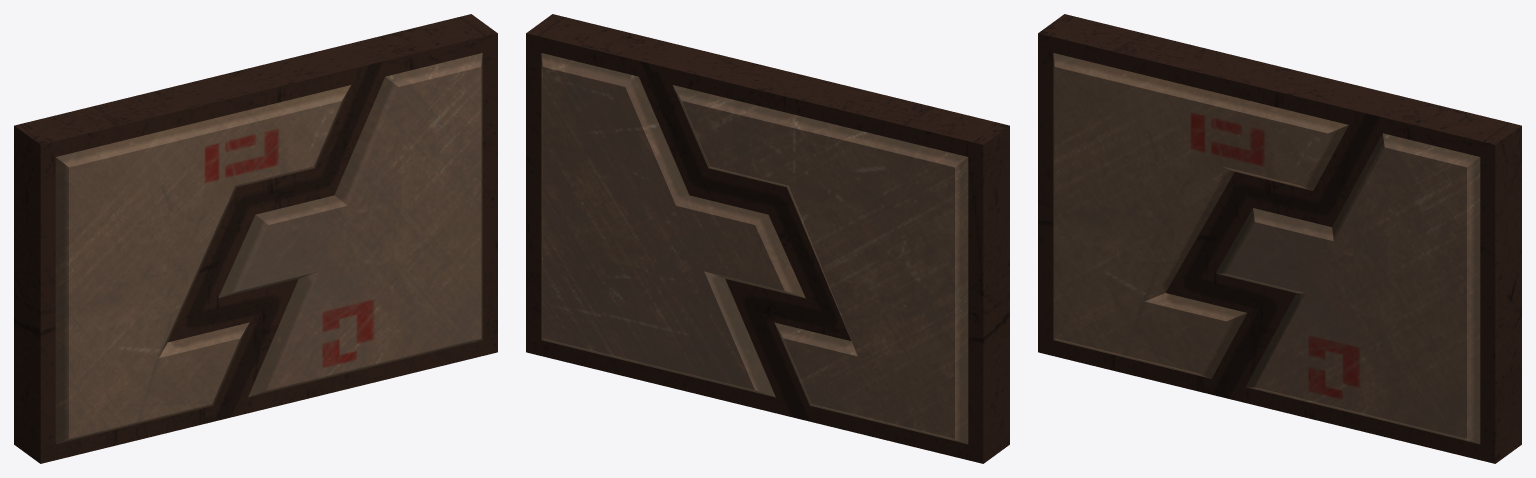
The model's file is doors.fbx.
The picture shows the model from 3 angles, left to right: view 1: azimuth 30°, elevation 25°; view 2: azimuth 150°, elevation 25°; view 3: azimuth 330°, elevation 25°; orthographic projection.
Parts seen in each view (by area): view 1: дверь 1, дверь 2; view 2: дверь 1, дверь 2; view 3: дверь 2, дверь 1.
Boxes of the visible parts, x1,y1,x2,y2 form: дверь 1: [14, 44, 375, 463]; дверь 2: [193, 14, 497, 418]; дверь 1: [648, 44, 1009, 463]; дверь 2: [526, 14, 830, 418]; дверь 2: [1191, 96, 1521, 463]; дверь 1: [1038, 14, 1399, 396].
Bounding box in the file's own units: 60 × 40 × 8.65.
